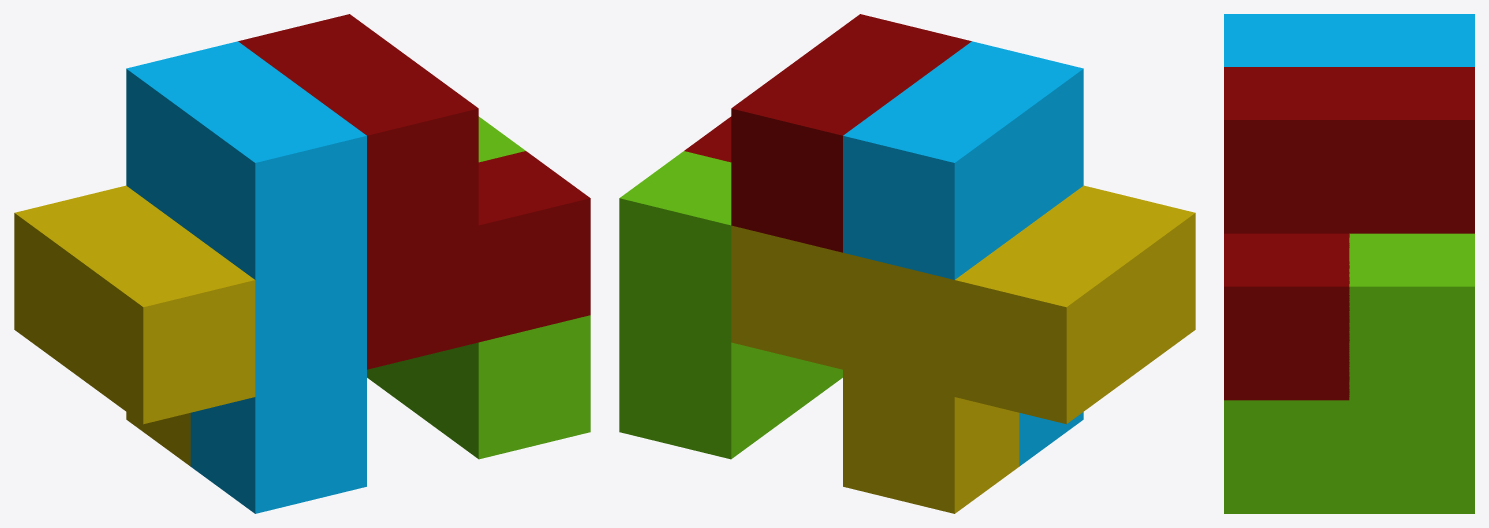
3 views of the same model, side by side, from view 1: azimuth 30°, elevation 25°; view 2: azimuth 150°, elevation 25°; view 3: azimuth 270°, elevation 25° (orthographic). The views are drawn at different scales.
Visible parts, largest first — view 1: mergedBlocks(Clone); view 2: mergedBlocks(Clone); view 3: mergedBlocks(Clone).
Part boxes in pixels (x1=…): mergedBlocks(Clone): x1=14, y1=14, x2=590, y2=513; mergedBlocks(Clone): x1=619, y1=14, x2=1195, y2=513; mergedBlocks(Clone): x1=1224, y1=14, x2=1474, y2=513.
Size of the model in its own units: 4 by 3 by 2.
Materials: 4 (4 with a texture image).
